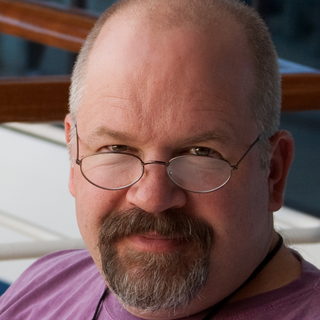eye: (176, 141, 223, 164), (95, 140, 139, 163)
